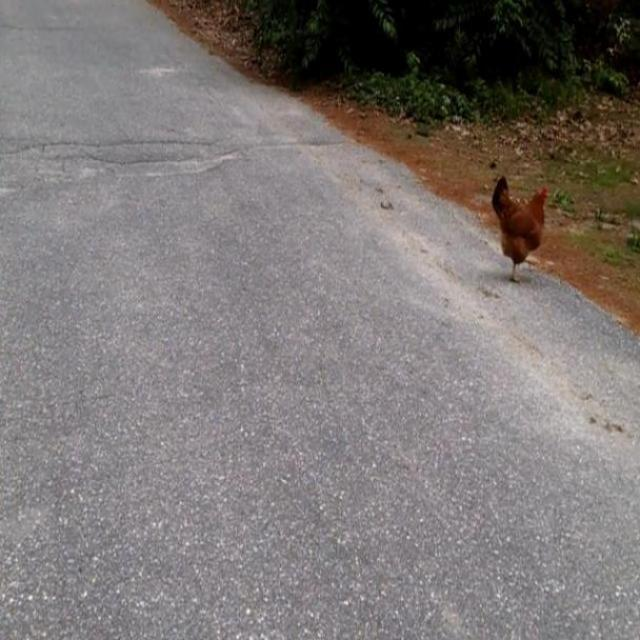Chicken: (491, 175, 549, 286)
